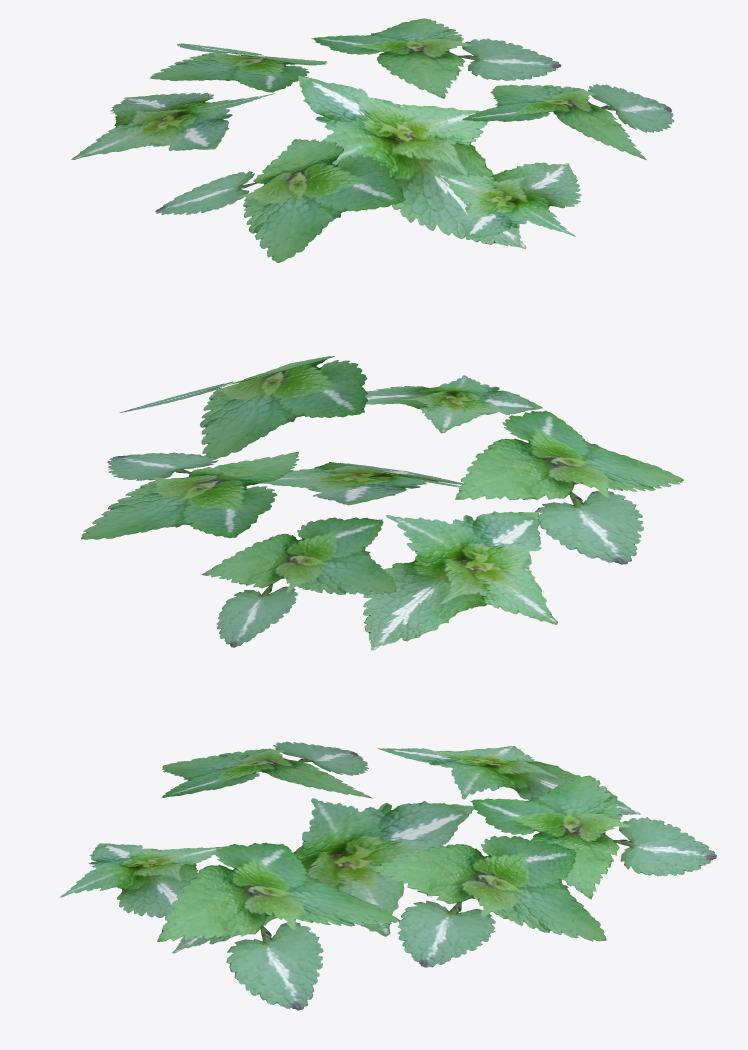
File: GroundFoliage4.fbx
The picture shows the model from 3 angles, top to bottom: view 1: azimuth 30°, elevation 25°; view 2: azimuth 150°, elevation 25°; view 3: azimuth 270°, elevation 25°; orthographic projection. The views are drawn at different scales.
Visible parts, largest first — view 1: GroundFoliage4; view 2: GroundFoliage4; view 3: GroundFoliage4.
Boxes of the visible parts, x1,y1,x2,y2 form: GroundFoliage4: [71, 18, 674, 262]; GroundFoliage4: [81, 356, 683, 650]; GroundFoliage4: [60, 741, 716, 1010].
Size of the model in its own units: 92.59 by 21.67 by 95.63.
